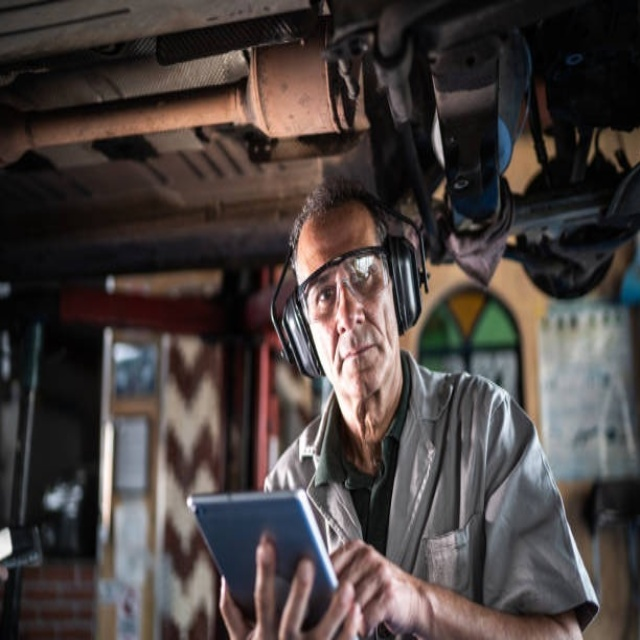Gafas: (301, 243, 388, 320)
Sin_guantes: (223, 530, 363, 640), (329, 529, 418, 635)
Sin_mascara: (339, 334, 382, 394)
